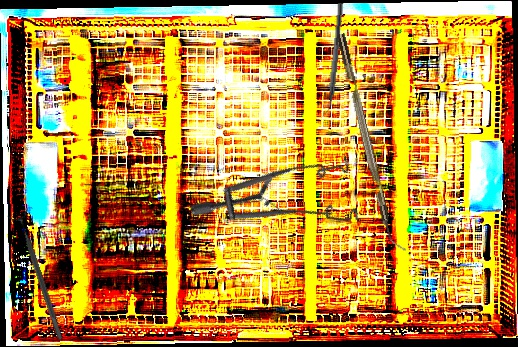Chopper: (336, 30, 407, 256), (320, 2, 344, 119)
Fixation Ring: (7, 208, 70, 344)
Speculum: (187, 116, 381, 297)
